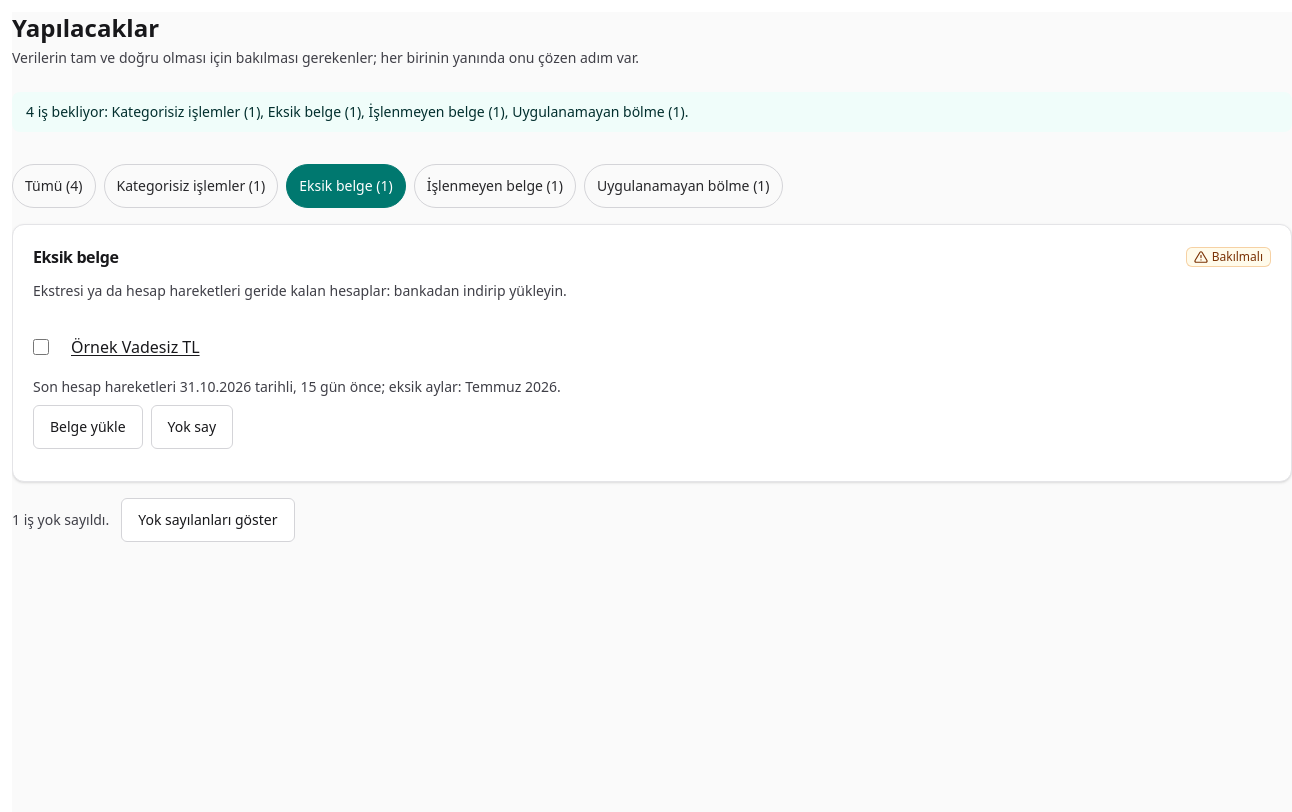
TodoPage: the list › narrows the list to a kind from the address, and shows every kind again
Check: the element "Eksik belge" is shown, box [12,224,1291,482]
Click the link "Tümü (4)". click: (54, 186)
box: [12,164,96,208]
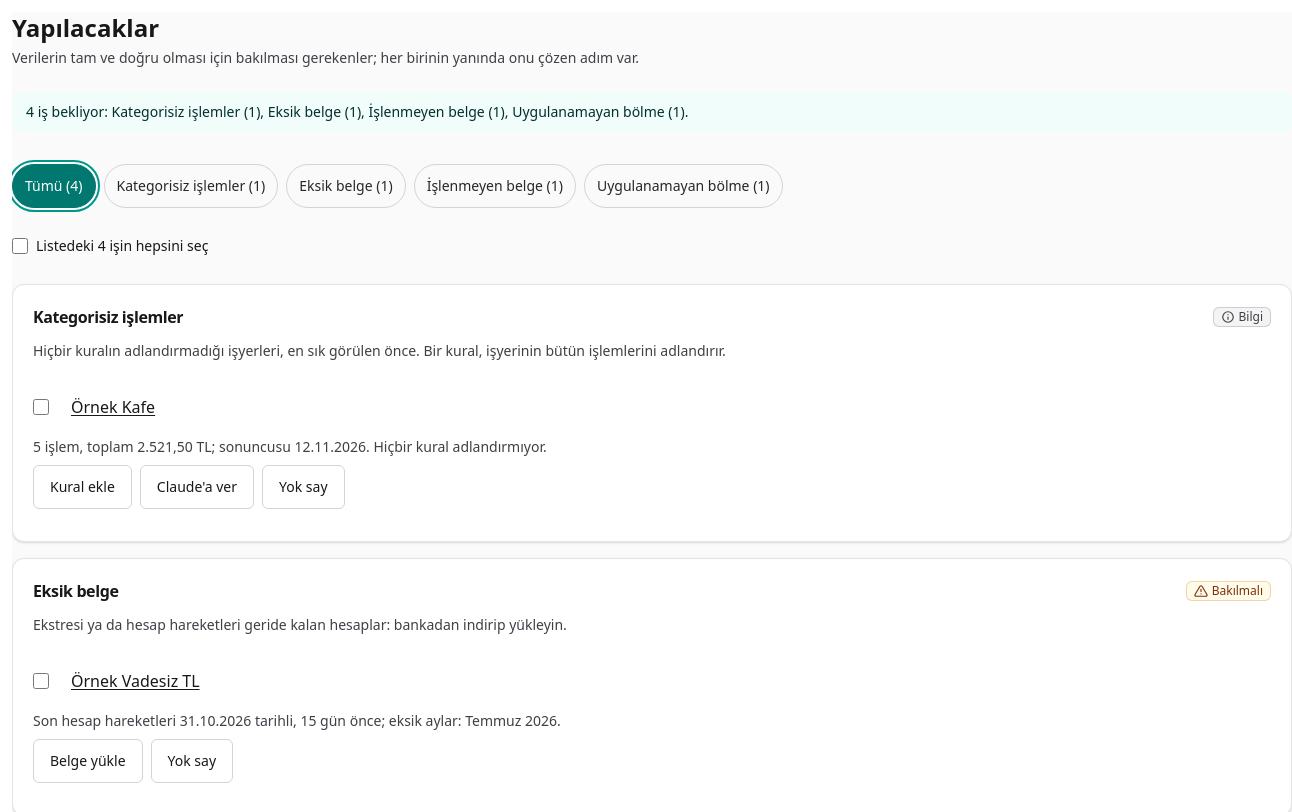
Check: the element "Kategorisiz işlemler" is shown, box [12,284,1291,542]
